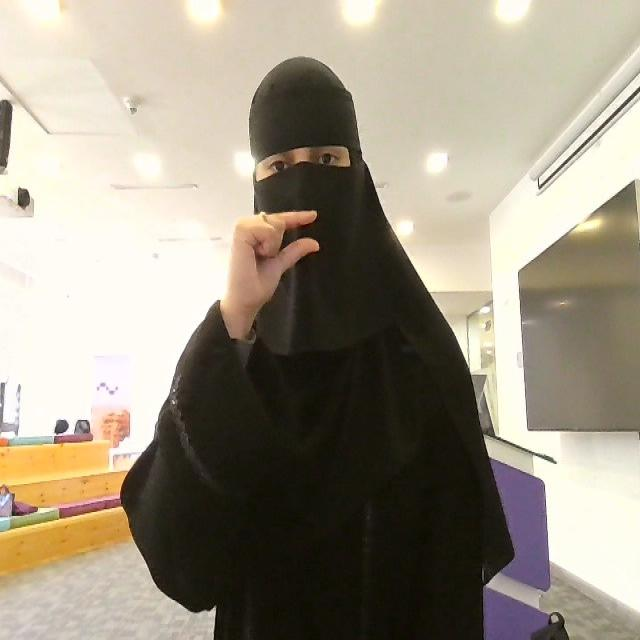fasting: (219, 206, 320, 338)
